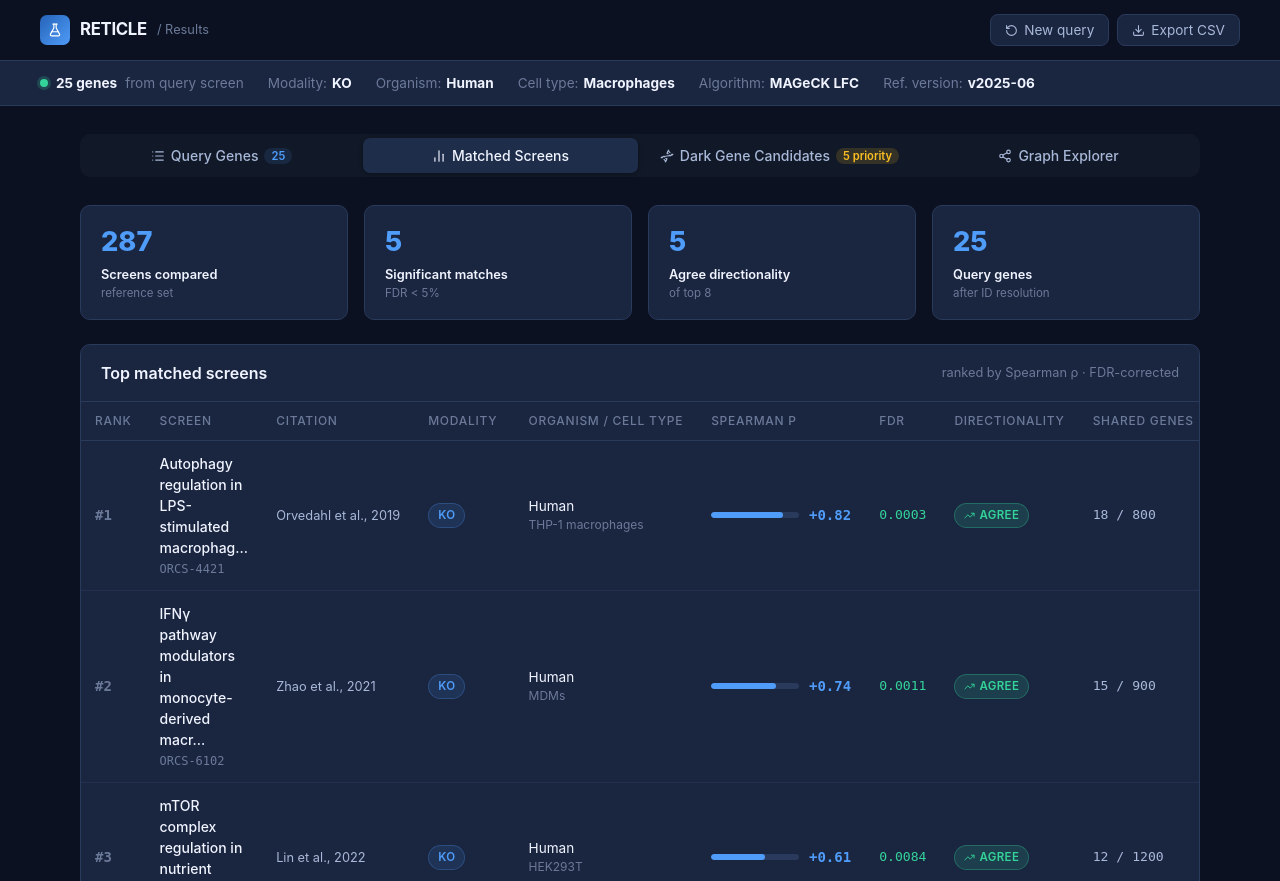
Scenario: ResultsPage › Query Genes tab shows gene count summary
Click the button "Query Genes 25". click: {"x": 222, "y": 156}
box: [84,138,359,173]
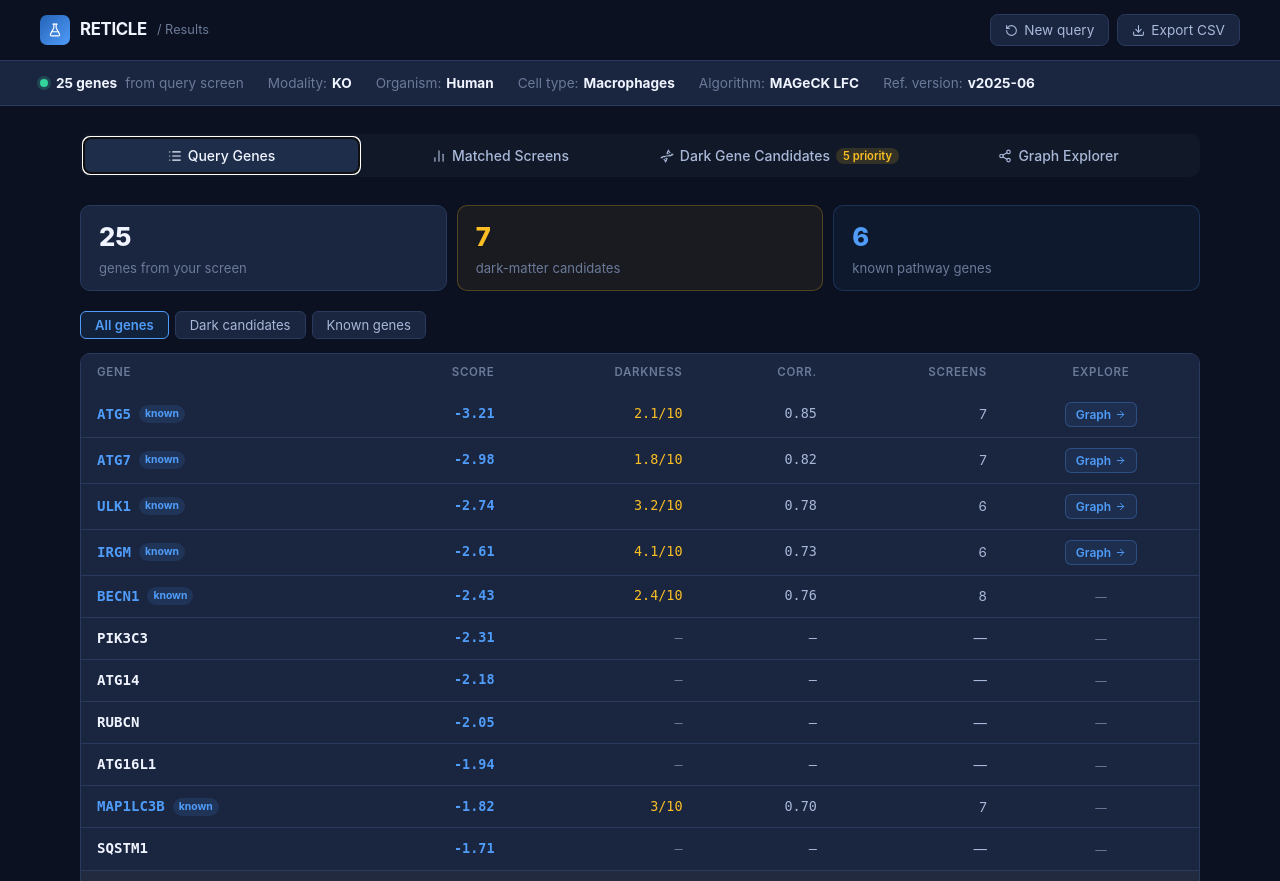
expect the text "genes from your screen" is shown: met, box [99,260,247,276]
